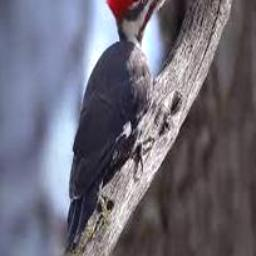Woodpecker: (65, 0, 181, 250)
